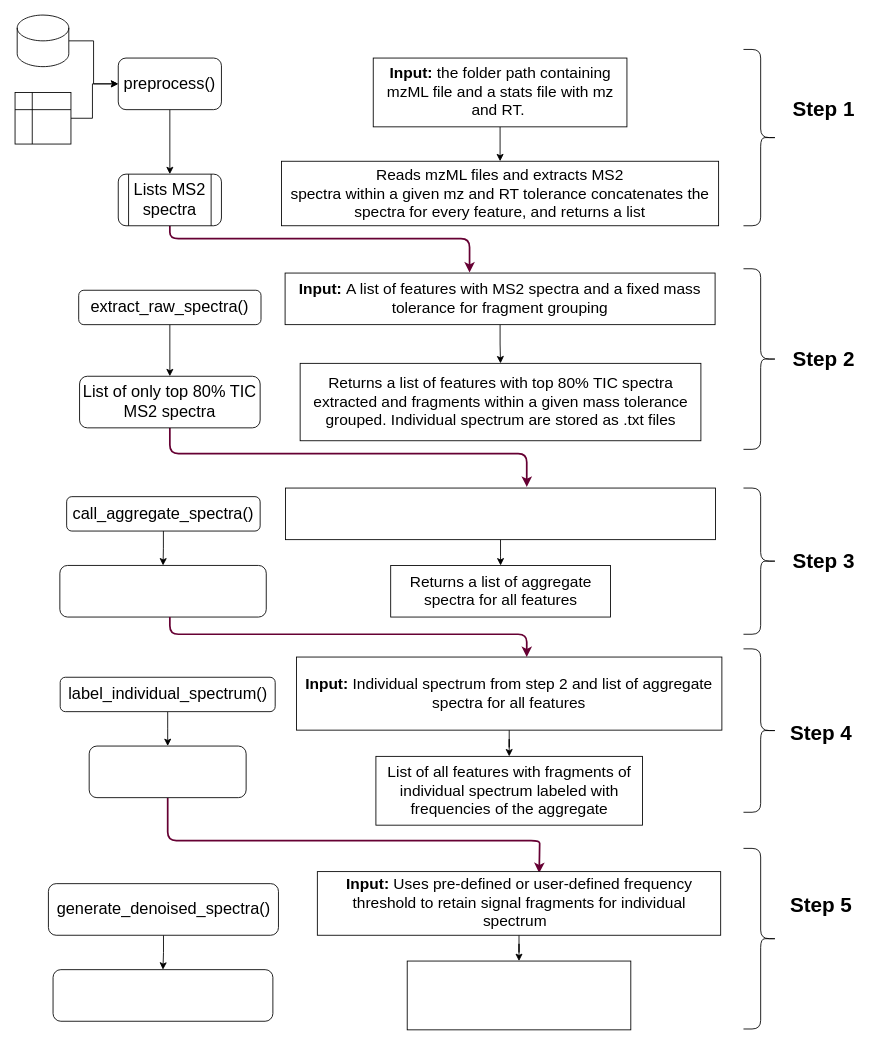
The diagram is 882 pixels wide and 1045 high, and some of its shapes have lost their labels. Each missing label, with the centre of its shape:
"Denoised spectra for individual features are stored as mzML files" goes at [518,995].
"Denoises spectra using fragment frequency cutoff" goes at [162,995].
"Generates aggregate spectra" goes at [162,591].
"Input: A list of features with top 80% TIC spectra and mz tolerance" goes at [500,513].
"label fragments from individual spectrum" goes at [167,771].
"mzML" goes at [42,40].
"Stats" goes at [42,118].
